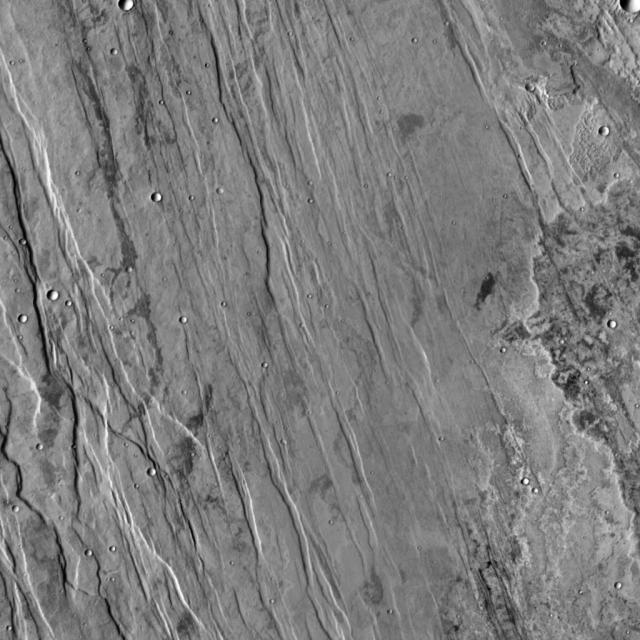crater: (625, 0, 640, 16), (124, 0, 138, 12), (52, 291, 64, 301), (157, 195, 167, 205), (604, 128, 614, 138), (612, 320, 622, 330), (152, 469, 162, 478), (115, 49, 124, 57), (23, 316, 32, 324), (185, 318, 193, 326), (531, 86, 539, 94), (215, 182, 222, 190), (16, 507, 24, 514), (16, 232, 23, 240), (82, 545, 89, 552), (613, 576, 620, 582), (519, 472, 526, 478), (34, 438, 40, 444)
